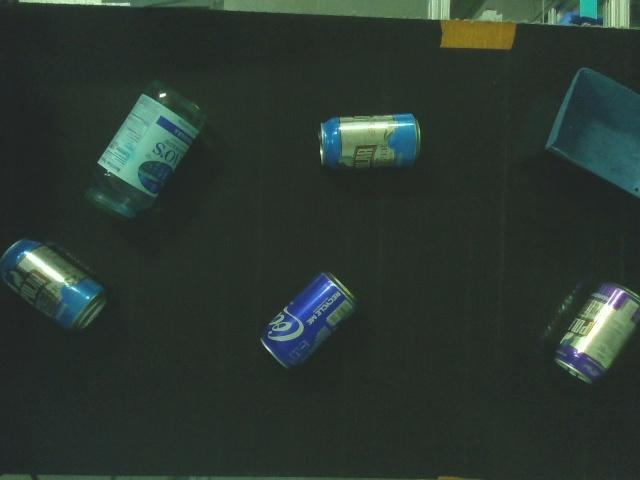cardboard: (541, 62, 640, 201)
metal: (256, 266, 366, 379), (0, 236, 116, 338), (545, 276, 640, 395), (314, 110, 429, 177)
plastic: (80, 74, 212, 226)
